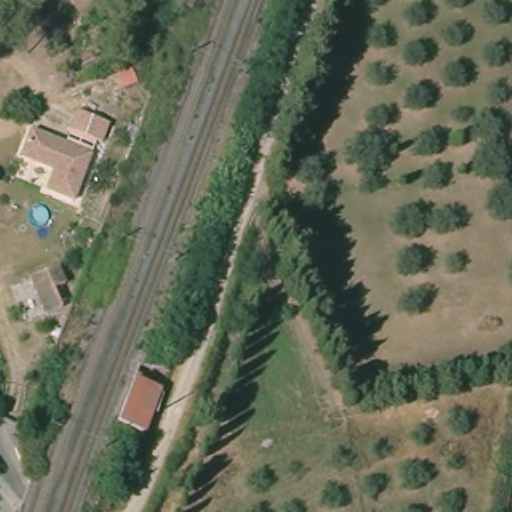pool: (23, 200, 55, 233)
